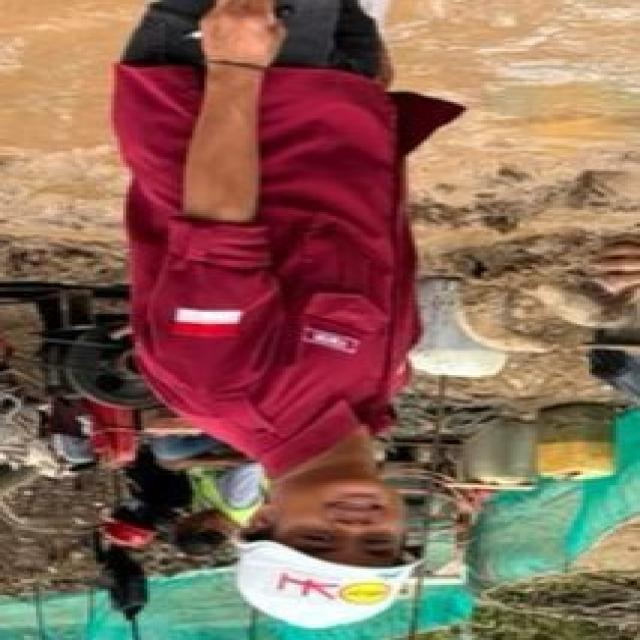safetyhelmet: (232, 467, 430, 630)
